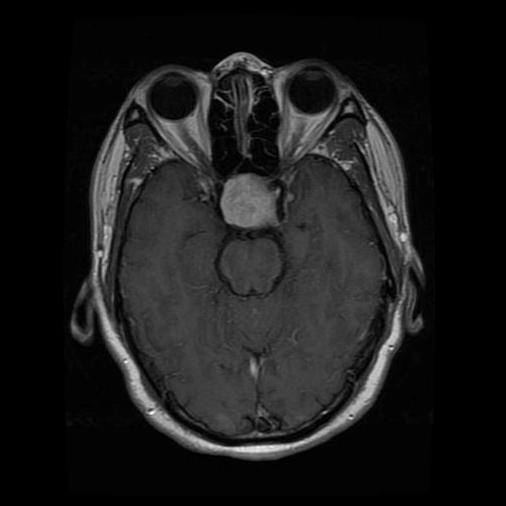Tumour-Pituitary: (213, 173, 296, 236)
